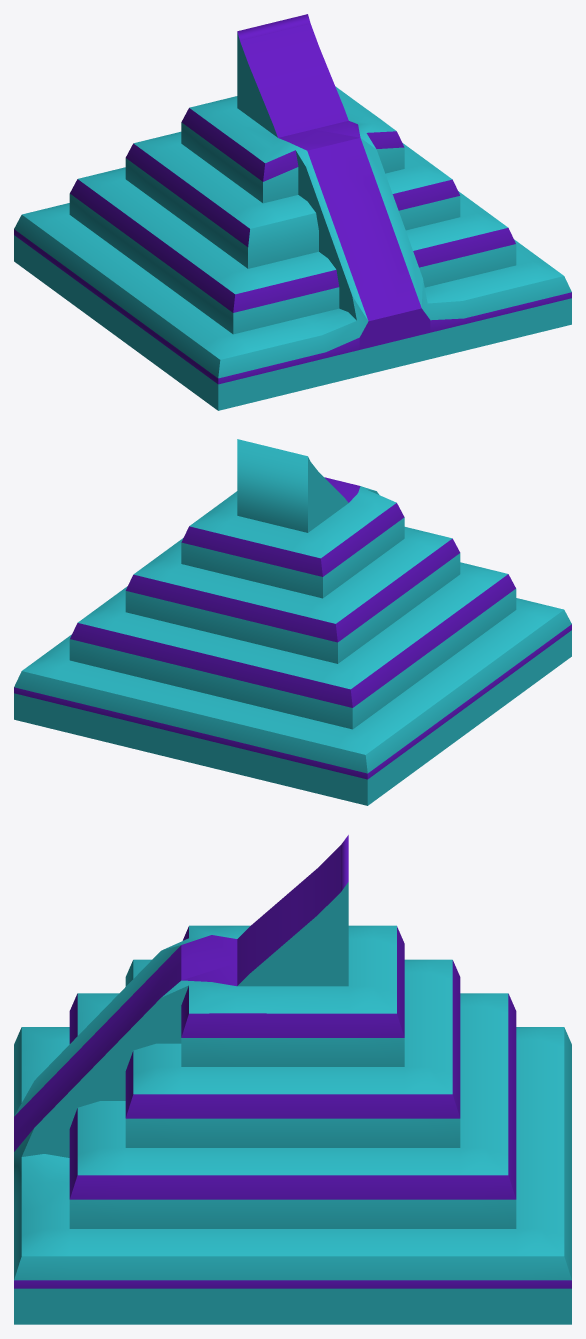
The model's file is Temple 5.fbx.
3 views of the same model, one above another, from view 1: azimuth 30°, elevation 25°; view 2: azimuth 150°, elevation 25°; view 3: azimuth 270°, elevation 25° (orthographic). The views are drawn at different scales.
Parts seen in each view (by area): view 1: Temple 5; view 2: Temple 5; view 3: Temple 5.
Boxes of the visible parts, x1,y1,x2,y2 form: Temple 5: [14, 14, 571, 410]; Temple 5: [14, 439, 571, 805]; Temple 5: [14, 835, 571, 1324].
Bounding box in the file's own units: 70 × 48.29 × 70.
2 materials, 2 textured.
